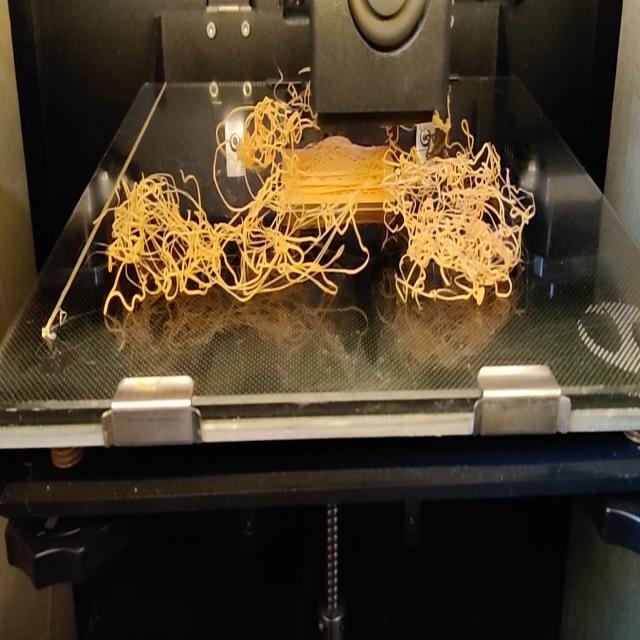spaghetti: (95, 126, 538, 322), (215, 67, 313, 129)
